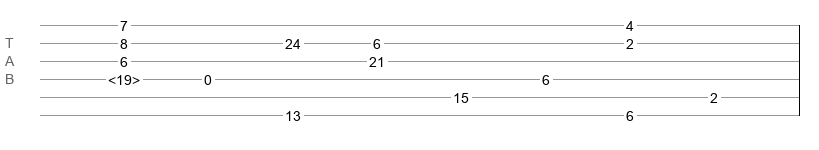0: (204, 72, 212, 82)
13: (285, 108, 301, 118)
15: (453, 90, 469, 100)
2: (626, 36, 634, 46), (710, 90, 718, 100)
21: (369, 54, 385, 64)
24: (285, 36, 301, 46)
4: (626, 18, 634, 28)
6: (120, 54, 128, 64), (373, 36, 381, 46), (542, 72, 550, 82), (626, 108, 634, 118)
7: (120, 18, 128, 28)
8: (120, 36, 128, 46)
harmonic: (108, 72, 140, 82)
